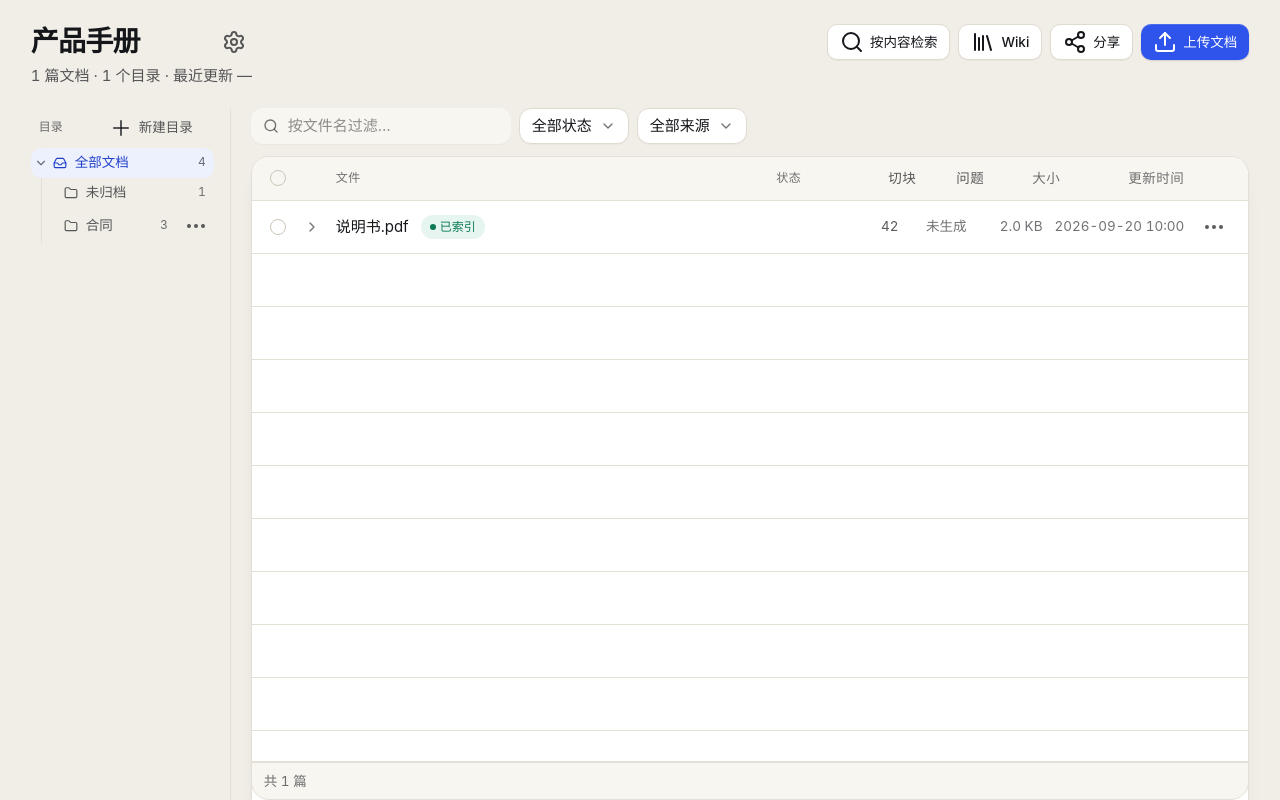
Test case: 单篇动作 › 大文件（is_split）可展开子文件树，按需拉一次 parts
Expected: the text "说明书.pdf" is shown, [336, 215, 409, 238]
Step 1. Click the button named "展开子文件" → [312, 226], box [300, 214, 324, 238]
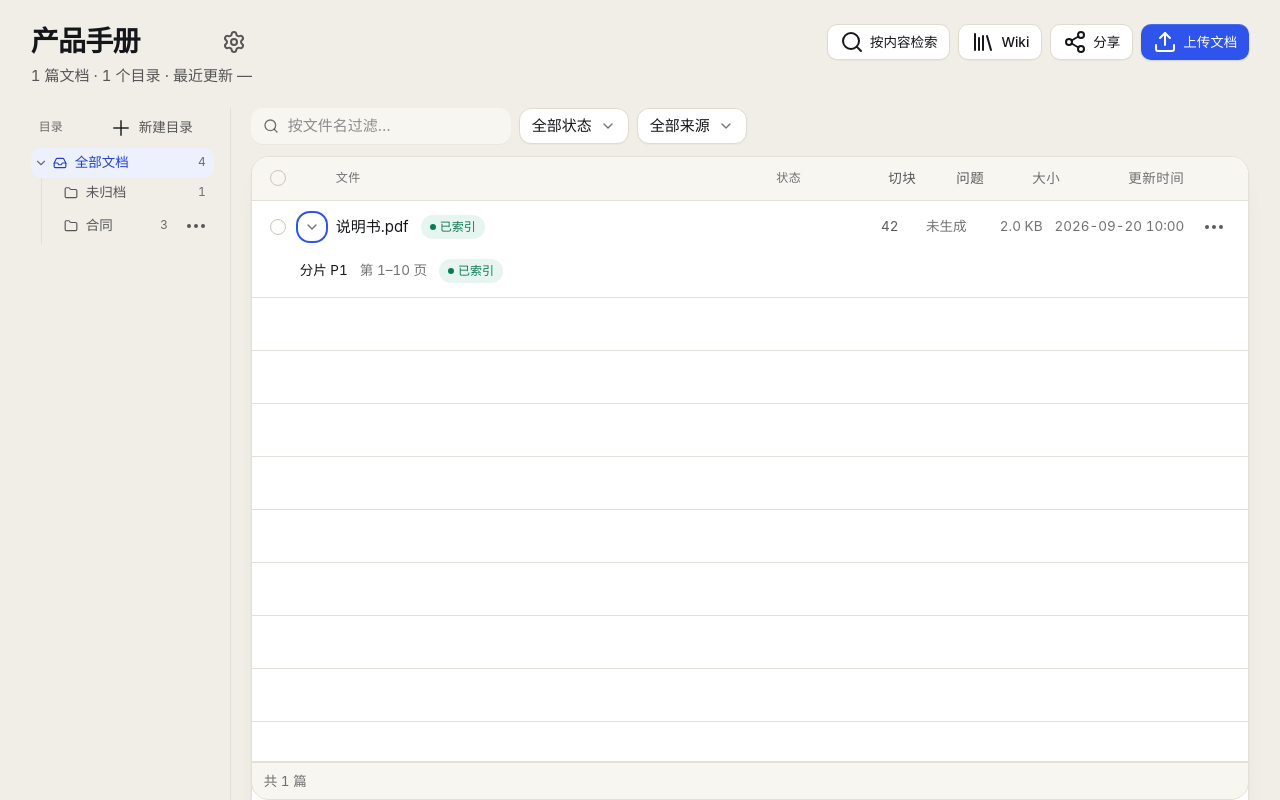
Expected: the text "分片 P1" is shown, [300, 260, 348, 281]
Expected: the text "第 1–10 页" is shown, [360, 260, 427, 281]
